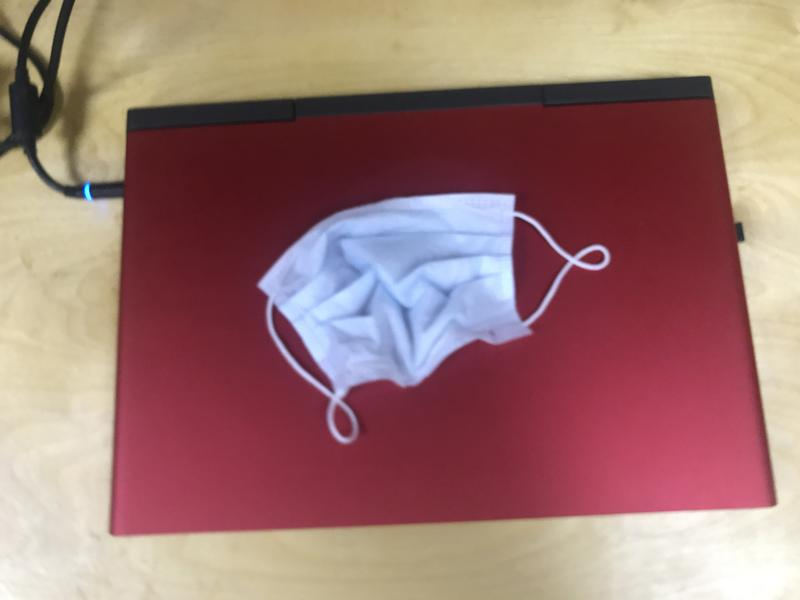medical_mask: (253, 192, 611, 448)
